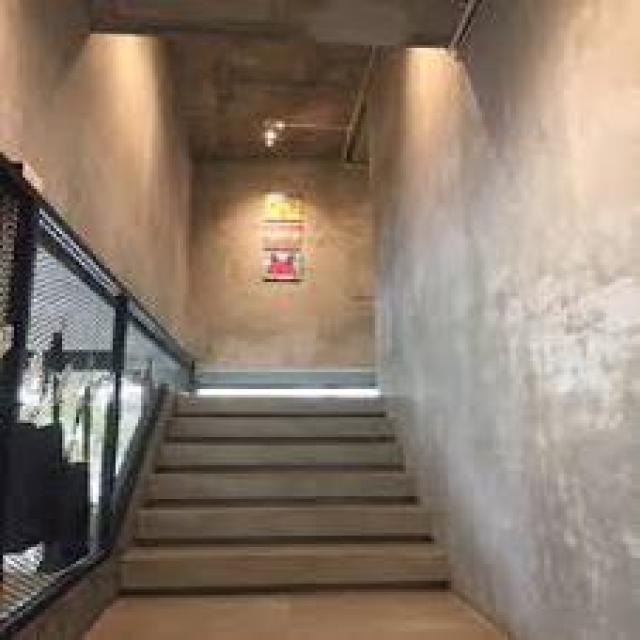stair: (122, 362, 441, 573)
